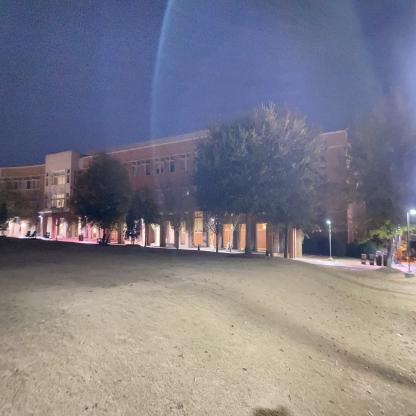eb3: (0, 128, 369, 254)
